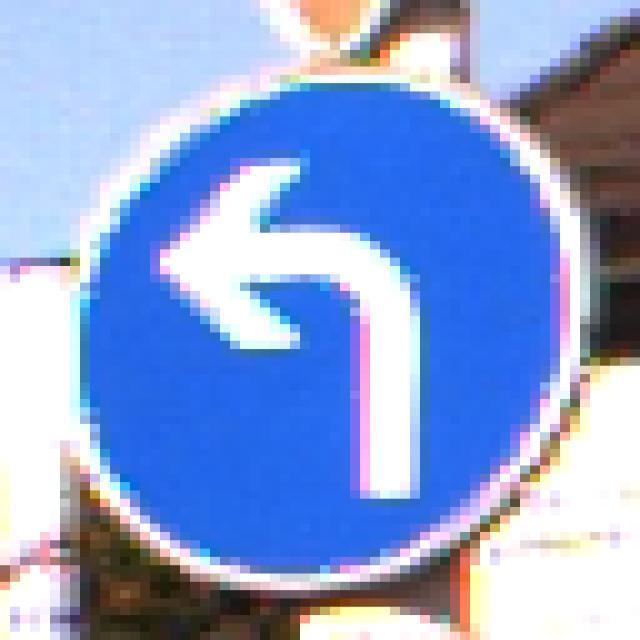compulsary turn left ahead: (50, 62, 599, 594)
